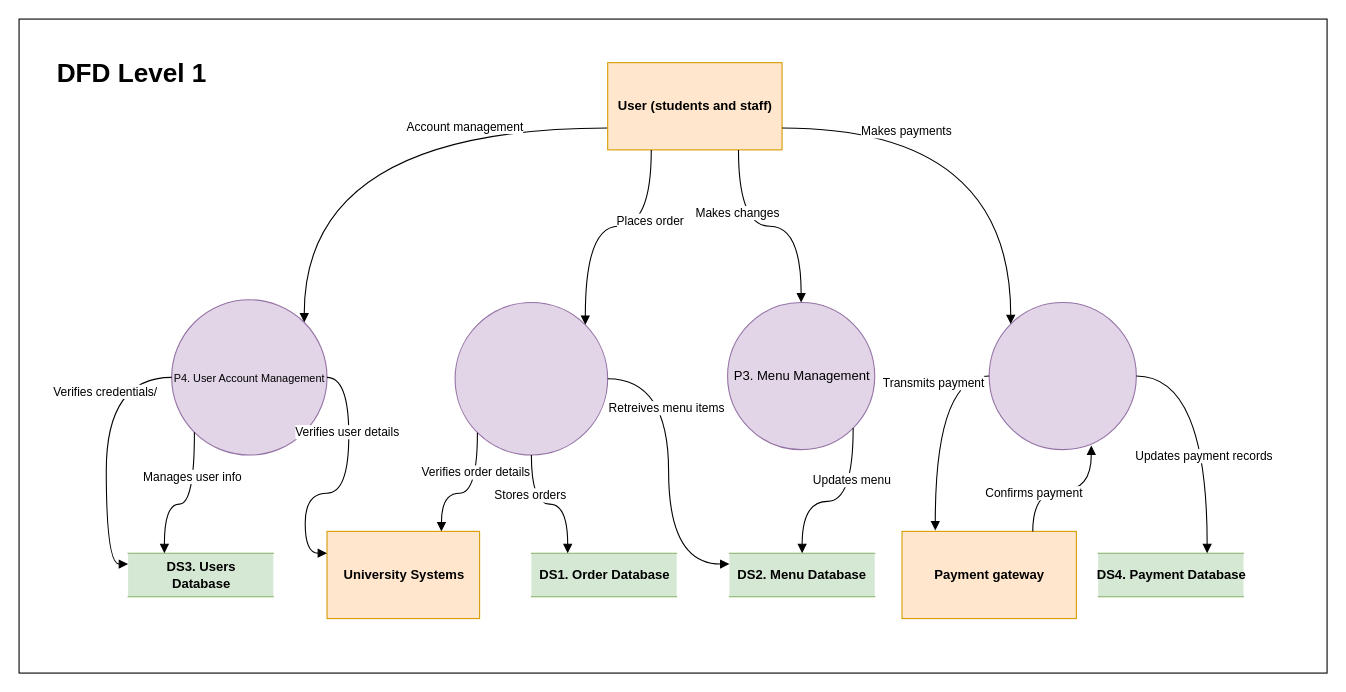
Some shapes in this 1346 by 692 pixel diagram are drawn without their labels. The shapes that lost their labels are listed below. From the top down, each one's centre as x and y in pixels, then its label:
At (531,378): "P1. Order Processing".
At (1062,375): "P2. Payment Processing".
